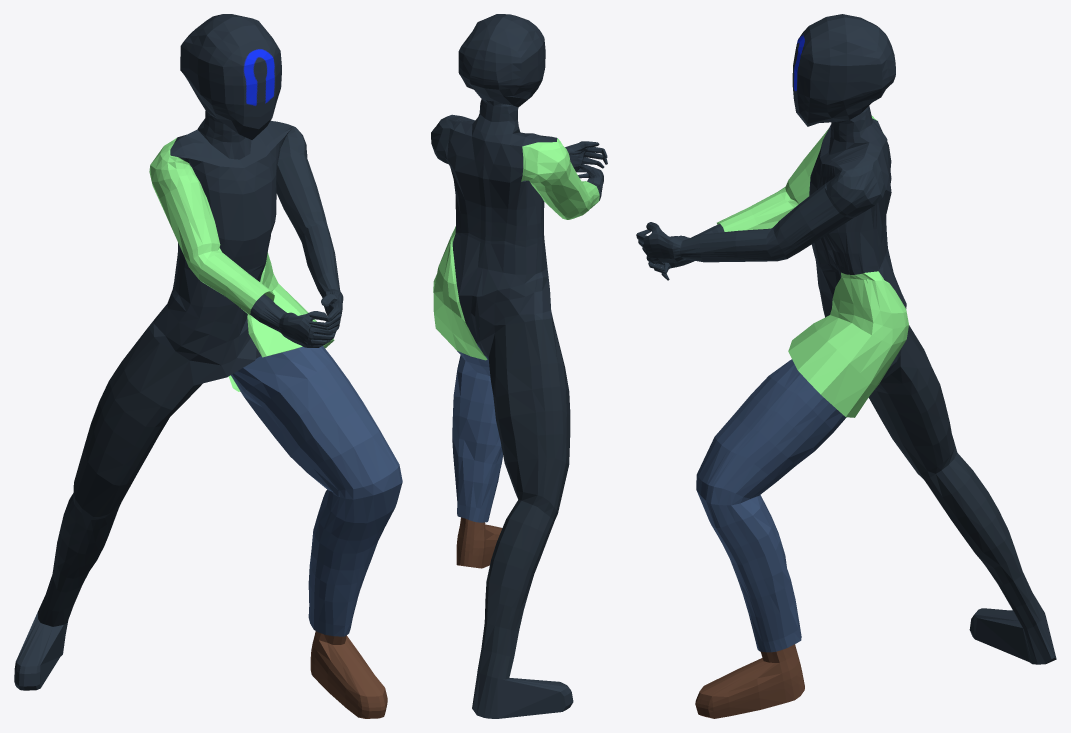
File: Mar_WR_000021.obj
3 views of the same model, side by side, from view 1: azimuth 30°, elevation 25°; view 2: azimuth 150°, elevation 25°; view 3: azimuth 270°, elevation 25° (orthographic). The views are drawn at different scales.
Visible parts, largest first — view 1: Cube.000_Cube.001; view 2: Cube.000_Cube.001; view 3: Cube.000_Cube.001.
Part boxes in pixels (left/top/right/bottom): Cube.000_Cube.001: left=14, top=14, right=402, bottom=718; Cube.000_Cube.001: left=431, top=14, right=607, bottom=718; Cube.000_Cube.001: left=636, top=14, right=1056, bottom=718.
Bounding box in the file's own units: 1.41 × 3.71 × 2.07.
